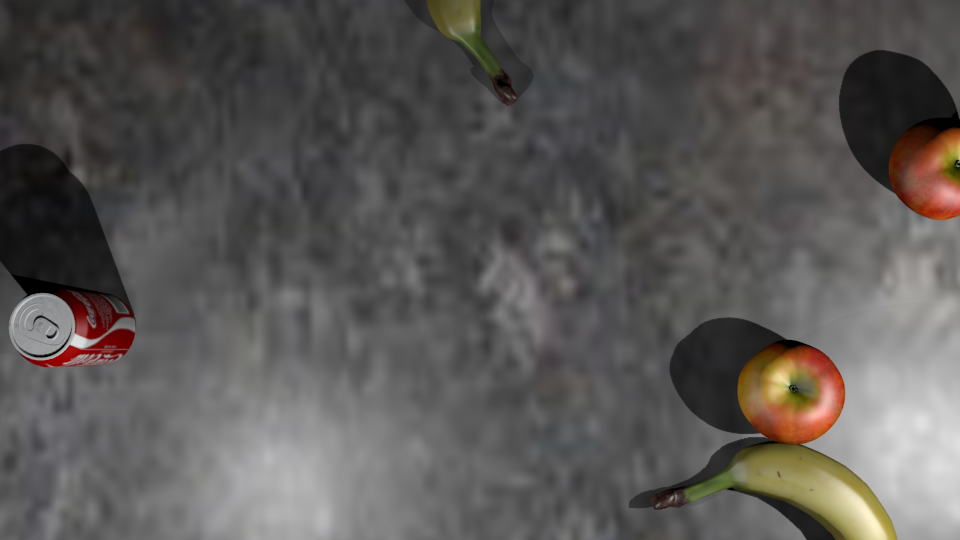apple: (738, 348, 846, 445), (890, 130, 960, 221)
banana: (652, 445, 898, 540), (428, 1, 518, 106)
cola_can: (9, 294, 136, 368)
